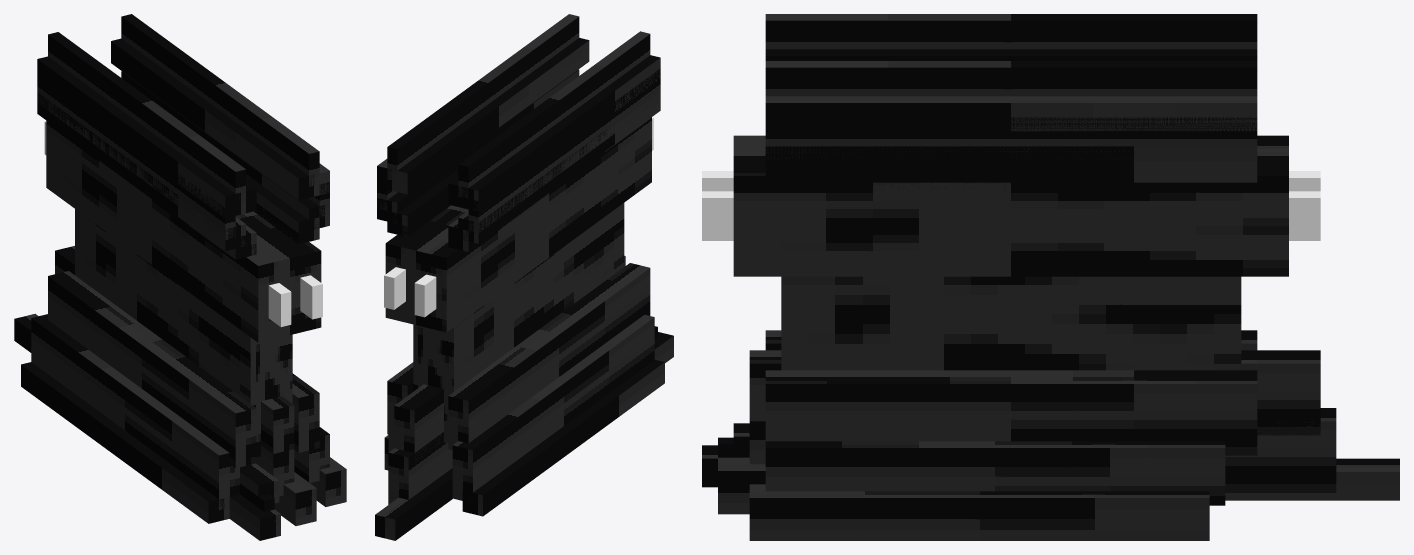
The model's file is shade.obj.
The picture shows the model from 3 angles, left to right: view 1: azimuth 30°, elevation 25°; view 2: azimuth 150°, elevation 25°; view 3: azimuth 270°, elevation 25°; orthographic projection. The views are drawn at different scales.
Parts seen in each view (by area): view 1: cube; view 2: cube; view 3: cube.
Boxes of the visible parts, left/top/right/bottom form: cube: left=14, top=14, right=346, bottom=540; cube: left=375, top=14, right=673, bottom=540; cube: left=702, top=14, right=1399, bottom=540.
Bounding box in the file's own units: 12 × 32 × 44.
Materials: 1 (1 with a texture image).
